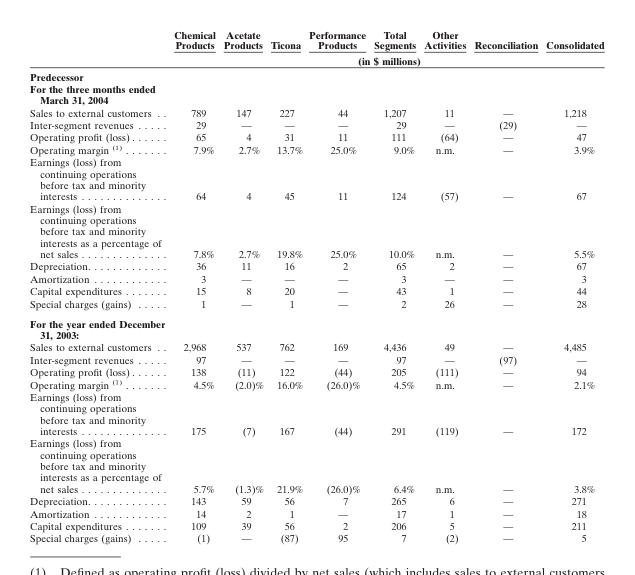table: (29, 28, 603, 543)
table column: (29, 28, 166, 543), (469, 28, 541, 543), (305, 28, 369, 543), (541, 28, 603, 543), (166, 28, 218, 543), (369, 28, 419, 543), (419, 28, 469, 543), (218, 28, 266, 543), (266, 28, 305, 543)
table column header: (29, 28, 603, 68)
table projected row header: (29, 313, 603, 340), (29, 82, 603, 105), (29, 68, 603, 82)
table row: (29, 436, 603, 494), (29, 202, 603, 259), (29, 155, 603, 202), (29, 390, 603, 436), (29, 313, 603, 340), (29, 28, 603, 52), (29, 82, 603, 105), (29, 296, 603, 313), (29, 52, 603, 68), (29, 68, 603, 82), (29, 105, 603, 118), (29, 142, 603, 155), (29, 259, 603, 272), (29, 340, 603, 353), (29, 377, 603, 390), (29, 506, 603, 519), (29, 118, 603, 130), (29, 130, 603, 142), (29, 272, 603, 284), (29, 284, 603, 296), (29, 353, 603, 365), (29, 365, 603, 377), (29, 494, 603, 506), (29, 519, 603, 531), (29, 531, 603, 543)
table spanning cell: (166, 52, 603, 68)
